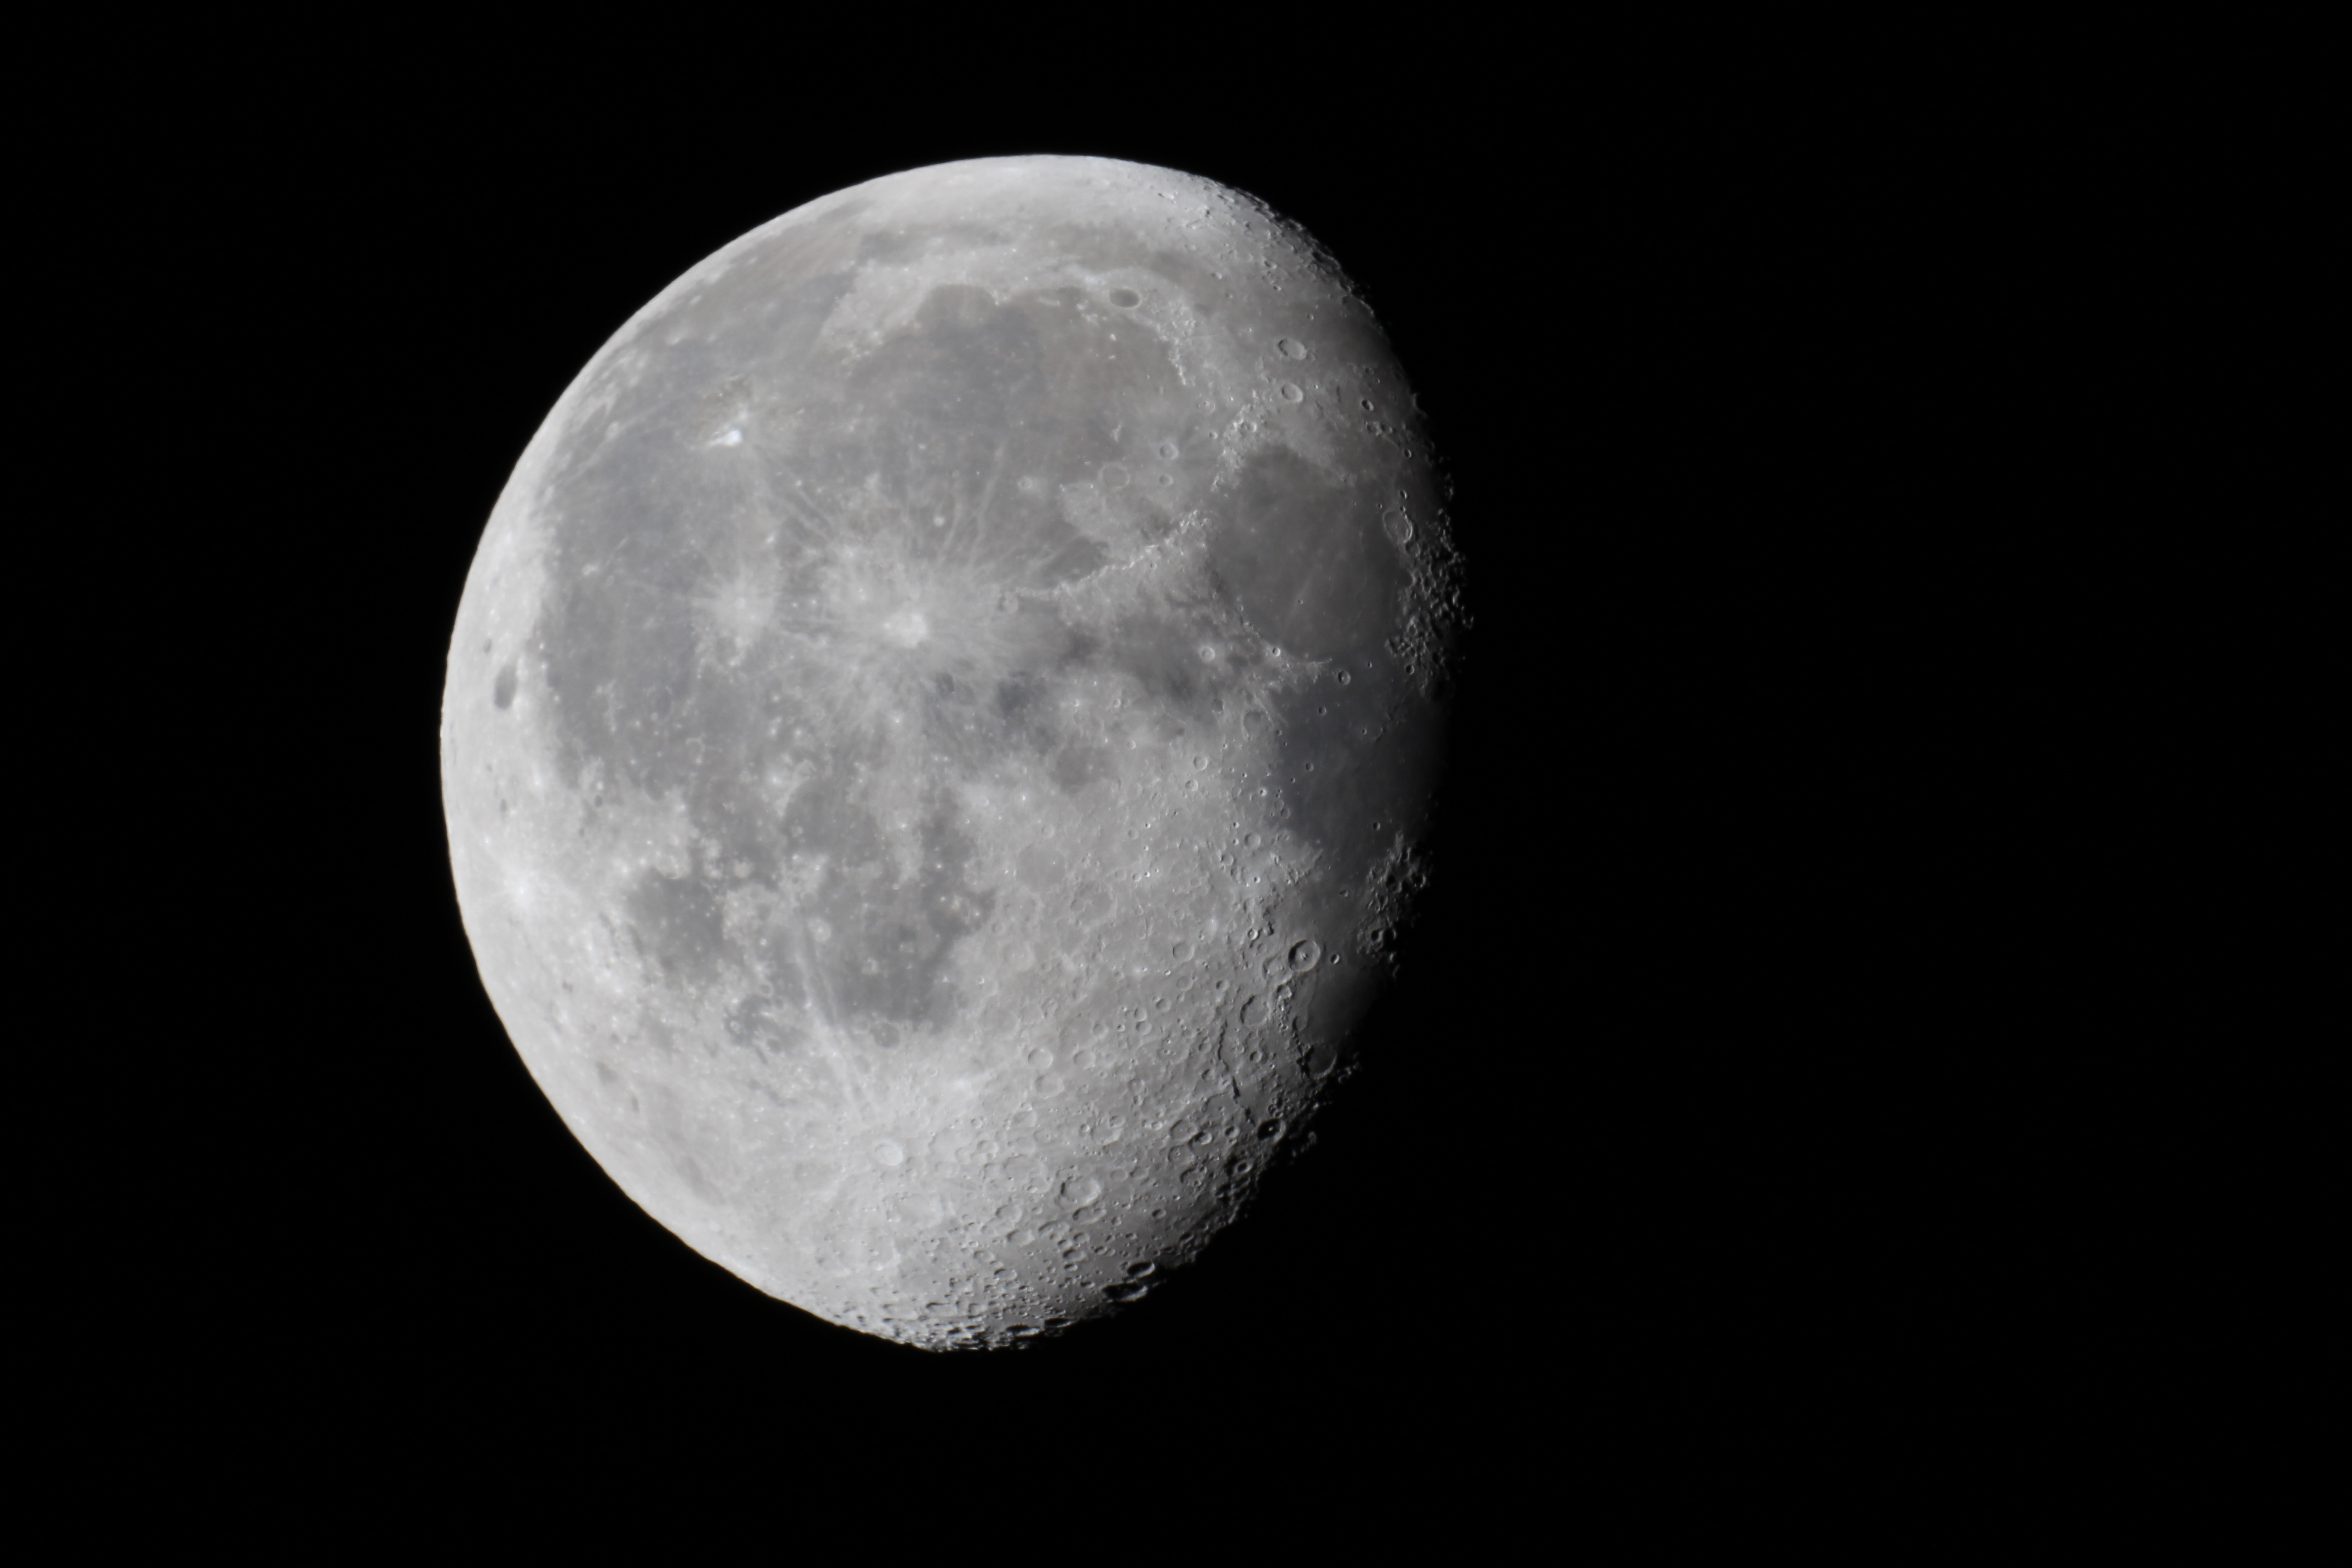crater: (789, 1062, 961, 1207), (661, 527, 800, 670), (847, 572, 987, 672), (486, 647, 553, 730), (689, 402, 772, 465), (1071, 264, 1153, 324), (1060, 871, 1130, 938), (1368, 488, 1426, 551), (1256, 320, 1325, 371), (1256, 359, 1314, 416), (1281, 924, 1332, 989), (1285, 1027, 1339, 1087), (1057, 1151, 1111, 1209)
